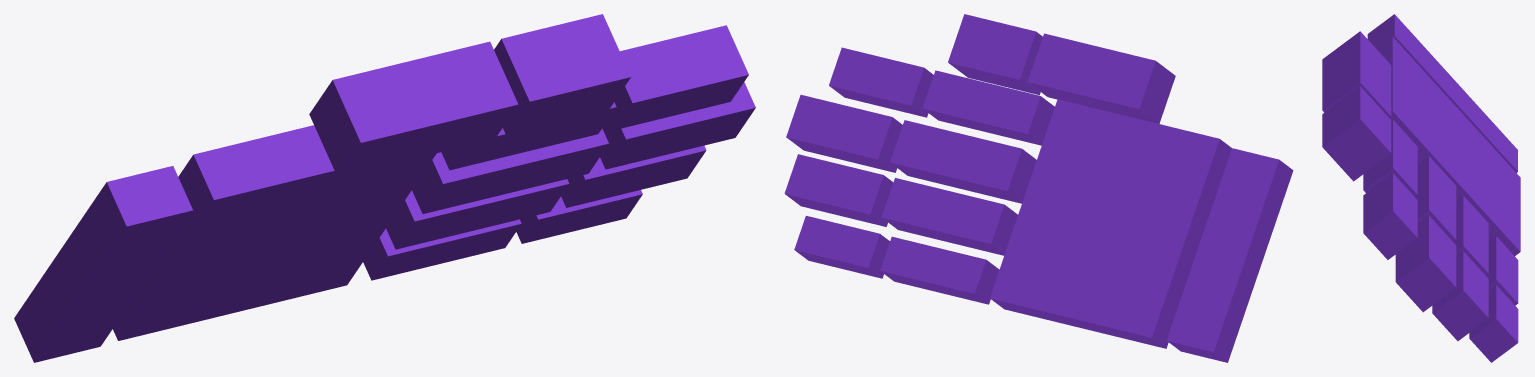
File: hand3(2).fbx
3 views of the same model, side by side, from view 1: azimuth 30°, elevation 25°; view 2: azimuth 150°, elevation 25°; view 3: azimuth 270°, elevation 25° (orthographic). The views are drawn at different scales.
Parts seen in each view (by area): view 1: Cube.008, Cube.011, Cube.009, Cube.010, Cube.006, Cube, Cube.001, Cube.003, Cube.004, Cube.002, Cube.007, Cube.005; view 2: Cube.008, Cube.009, Cube.011, Cube, Cube.003, Cube.007, Cube.001, Cube.010, Cube.002, Cube.004, Cube.006, Cube.005; view 3: Cube.008, Cube.010, Cube.001, Cube.011, Cube.009, Cube.006, Cube.002, Cube, Cube.005, Cube.007, Cube.003, Cube.004.
Part boxes in pixels (bbox=[...]): Cube.008: bbox=[113, 125, 436, 340]; Cube.011: bbox=[309, 41, 518, 176]; Cube.009: bbox=[14, 166, 193, 362]; Cube.010: bbox=[494, 14, 630, 135]; Cube.006: bbox=[609, 25, 748, 129]; Cube: bbox=[412, 128, 608, 213]; Cube.001: bbox=[600, 82, 755, 169]; Cube.003: bbox=[386, 179, 569, 249]; Cube.004: bbox=[363, 219, 521, 280]; Cube.002: bbox=[561, 145, 706, 207]; Cube.007: bbox=[441, 102, 616, 170]; Cube.005: bbox=[516, 190, 642, 243]; Cube.008: bbox=[990, 99, 1231, 348]; Cube.009: bbox=[1166, 148, 1293, 362]; Cube.011: bbox=[1027, 33, 1175, 123]; Cube: bbox=[890, 120, 1036, 203]; Cube.003: bbox=[881, 178, 1017, 255]; Cube.007: bbox=[922, 70, 1054, 145]; Cube.001: bbox=[786, 95, 902, 172]; Cube.010: bbox=[948, 14, 1042, 94]; Cube.002: bbox=[784, 154, 893, 226]; Cube.004: bbox=[880, 236, 999, 304]; Cube.006: bbox=[829, 47, 933, 117]; Cube.005: bbox=[794, 215, 889, 278]; Cube.008: bbox=[1377, 37, 1520, 255]; Cube.010: bbox=[1322, 86, 1391, 181]; Cube.001: bbox=[1395, 215, 1456, 312]; Cube.011: bbox=[1322, 31, 1391, 117]; Cube.009: bbox=[1367, 14, 1517, 172]; Cube.006: bbox=[1363, 173, 1417, 259]; Cube.002: bbox=[1432, 251, 1488, 341]; Cube: bbox=[1415, 156, 1456, 241]; Cube.005: bbox=[1469, 285, 1518, 362]; Cube.007: bbox=[1363, 120, 1417, 196]; Cube.003: bbox=[1453, 195, 1488, 275]; Cube.004: bbox=[1486, 236, 1518, 305].
Bounding box in the file's own units: 430 × 193 × 170.
